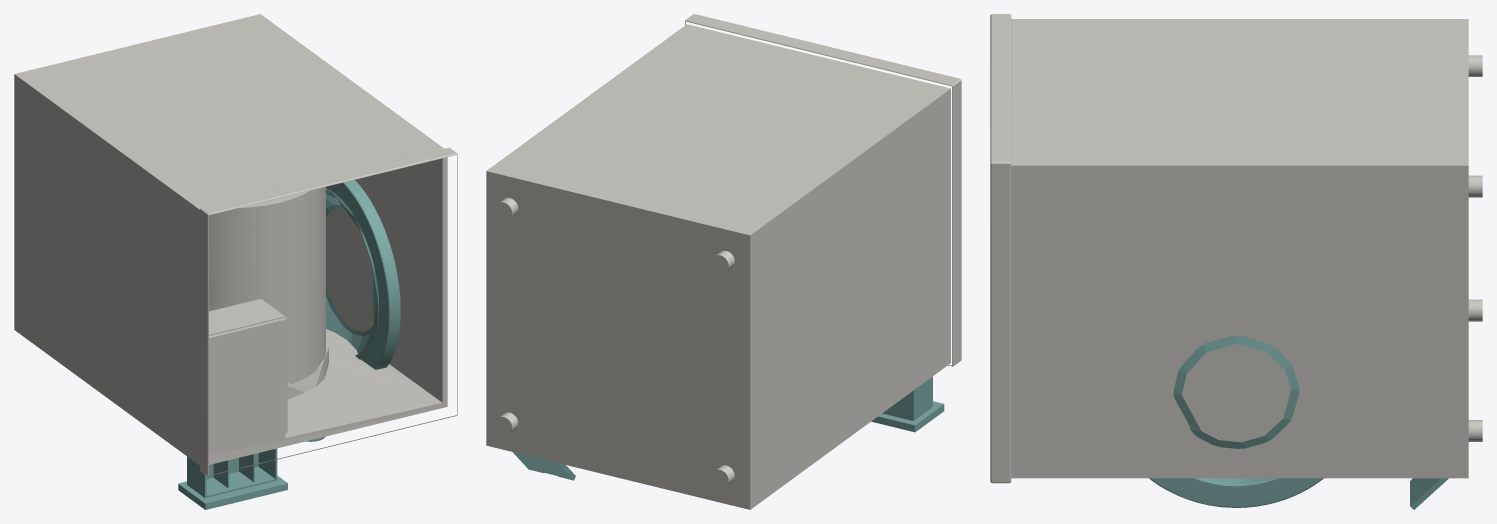
The model's file is wm_af_open_R90.glb.
3 renders of one model, left to right at view 1: azimuth 30°, elevation 25°; view 2: azimuth 150°, elevation 25°; view 3: azimuth 270°, elevation 25°, orthographic. The views are drawn at different scales.
Parts seen in each view (by area): view 1: world; view 2: world; view 3: world.
Boxes of the visible parts, box(x1,y1,x2,y2) form: world: box(14, 14, 457, 509); world: box(486, 14, 961, 509); world: box(990, 14, 1482, 509).
Bounding box in the file's own units: 0.61 × 0.7135 × 0.85.
